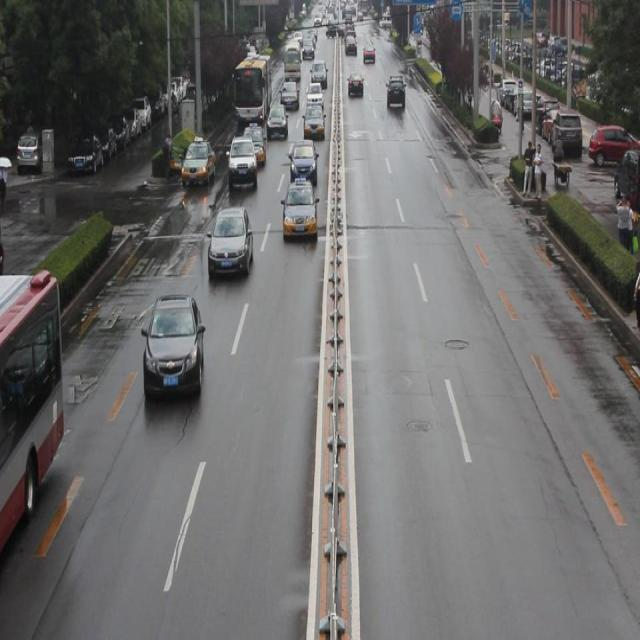car: (142, 294, 206, 398), (208, 208, 253, 278), (282, 180, 318, 242), (227, 133, 257, 190), (183, 134, 216, 184), (289, 141, 317, 183), (243, 118, 265, 168), (302, 104, 324, 140), (267, 100, 287, 139)
van: (1, 272, 66, 542), (234, 50, 271, 126)
